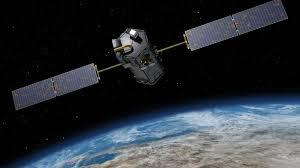body: (110, 26, 171, 88)
solar: (183, 0, 290, 53), (10, 61, 104, 112)
